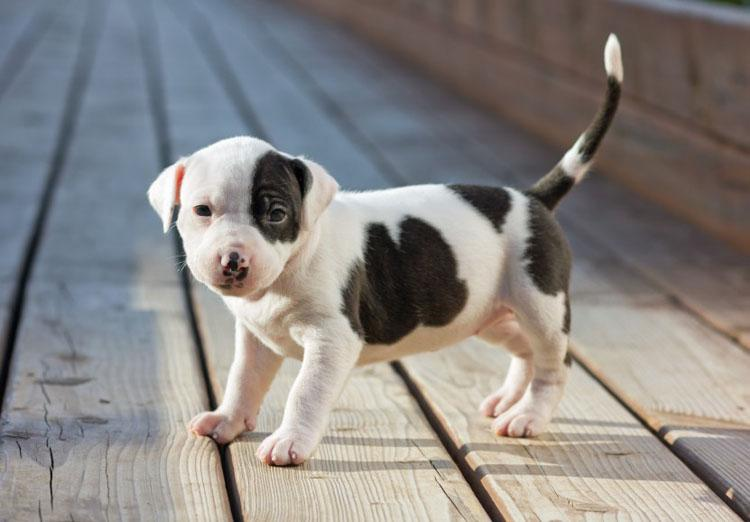Perro Pitbull: (127, 96, 615, 470)
